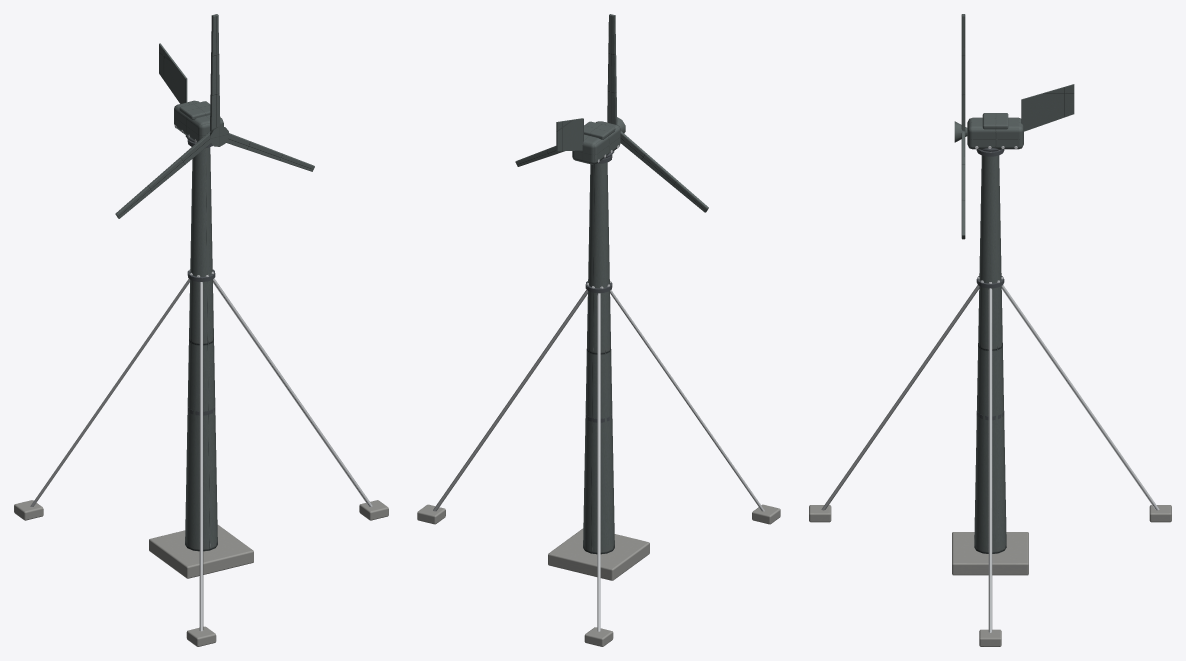
File: fps-survival-forest-outpost-wind-turbine-dee233d0__32628.glb
3 views of the same model, side by side, from view 1: azimuth 30°, elevation 25°; view 2: azimuth 150°, elevation 25°; view 3: azimuth 270°, elevation 25° (orthographic). The views are drawn at different scales.
Parts seen in each view (by area): view 1: wind-turbine, blades; view 2: wind-turbine, blades; view 3: wind-turbine, blades.
Boxes of the visible parts, bbox=[...] form: wind-turbine: bbox=[14, 43, 388, 646]; blades: bbox=[115, 14, 314, 218]; wind-turbine: bbox=[417, 118, 780, 646]; blades: bbox=[515, 14, 708, 212]; wind-turbine: bbox=[809, 84, 1171, 646]; blades: bbox=[954, 14, 967, 239].
Size of the model in its own units: 3.75 by 7.03 by 4.24.
Materials: 4 (2 with a texture image).
